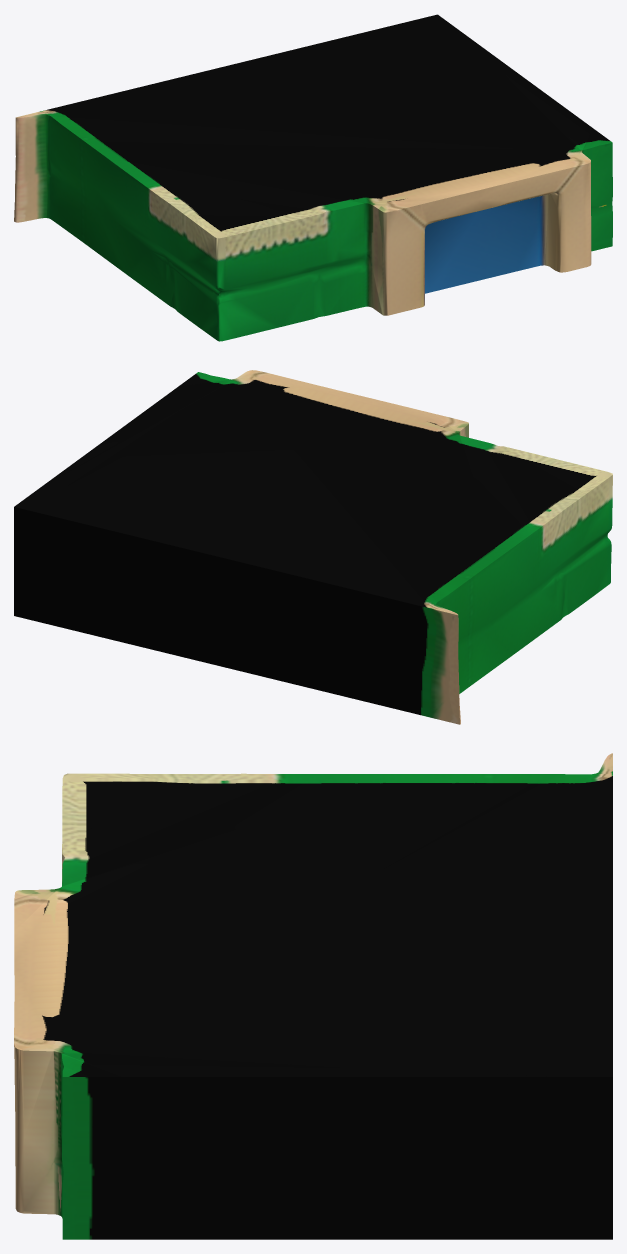
The model's file is 9-roof-front-left.fbx.
3 views of the same model, one above another, from view 1: azimuth 30°, elevation 25°; view 2: azimuth 150°, elevation 25°; view 3: azimuth 270°, elevation 25° (orthographic). The views are drawn at different scales.
Parts seen in each view (by area): view 1: roof-front-left; view 2: roof-front-left; view 3: roof-front-left.
Boxes of the visible parts, box(x1,y1,x2,y2) form: roof-front-left: box(14, 14, 612, 341); roof-front-left: box(14, 370, 612, 724); roof-front-left: box(14, 753, 612, 1239).
Size of the model in its own units: 3488 by 815 by 2717.
1 material, 1 textured.
